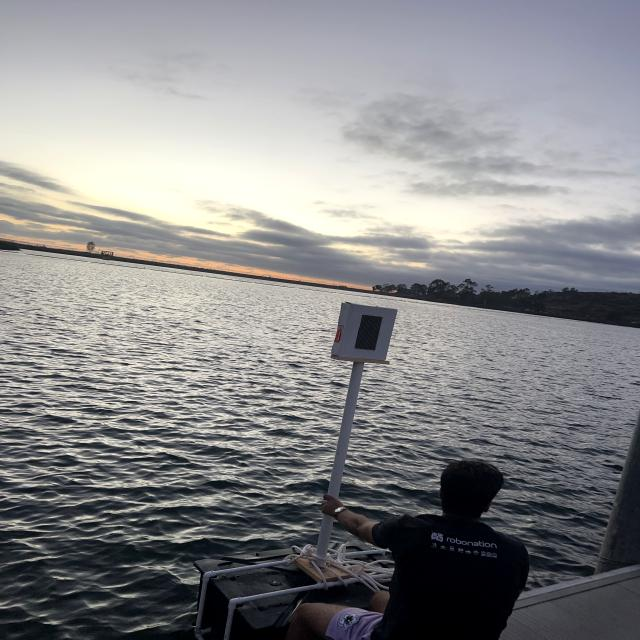led: (333, 302, 391, 358)
